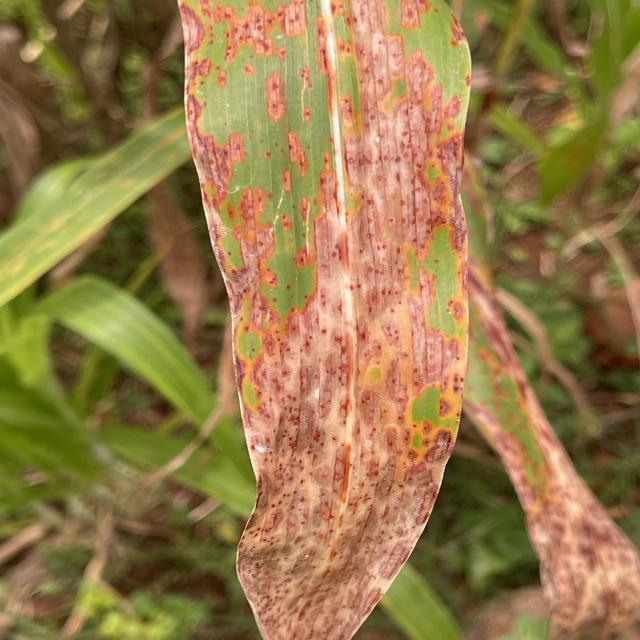millet_rust: (170, 0, 482, 640)
